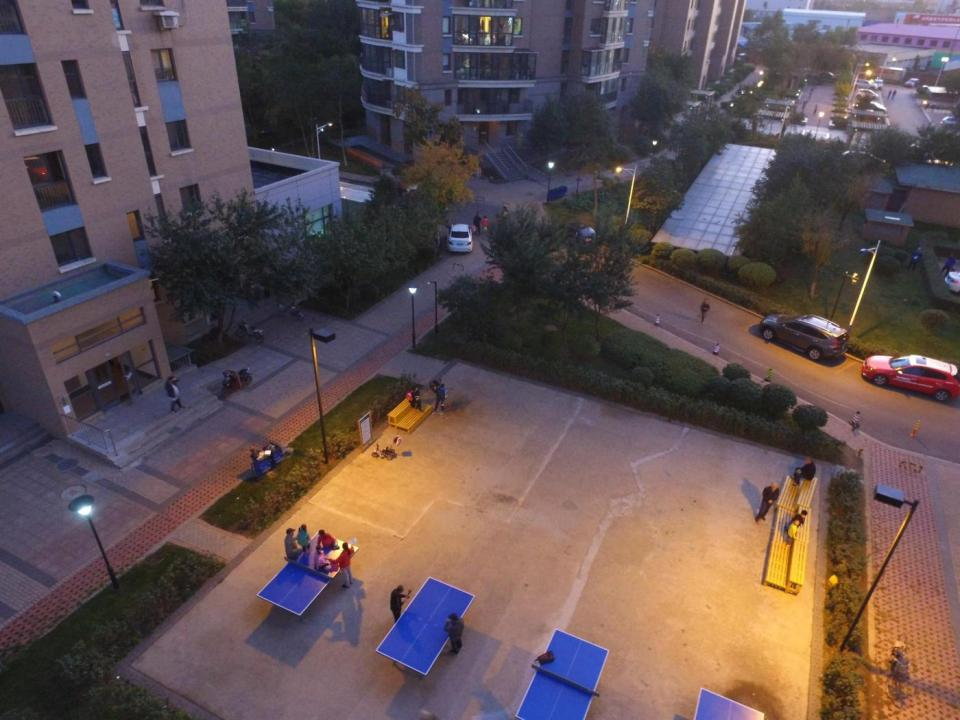car: (864, 346, 960, 403), (758, 311, 851, 367), (406, 177, 458, 203), (559, 219, 604, 249), (444, 220, 475, 252), (937, 114, 959, 127), (818, 70, 839, 80), (903, 77, 920, 88), (873, 77, 884, 89)
van: (854, 77, 879, 92)
